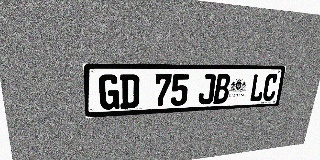5: (171, 74, 189, 106)
7: (153, 74, 172, 107)
B: (213, 74, 231, 104)
C: (262, 74, 279, 101)
D: (120, 74, 139, 109)
G: (99, 74, 119, 110)
J: (198, 74, 216, 105)
L: (249, 74, 266, 102)
